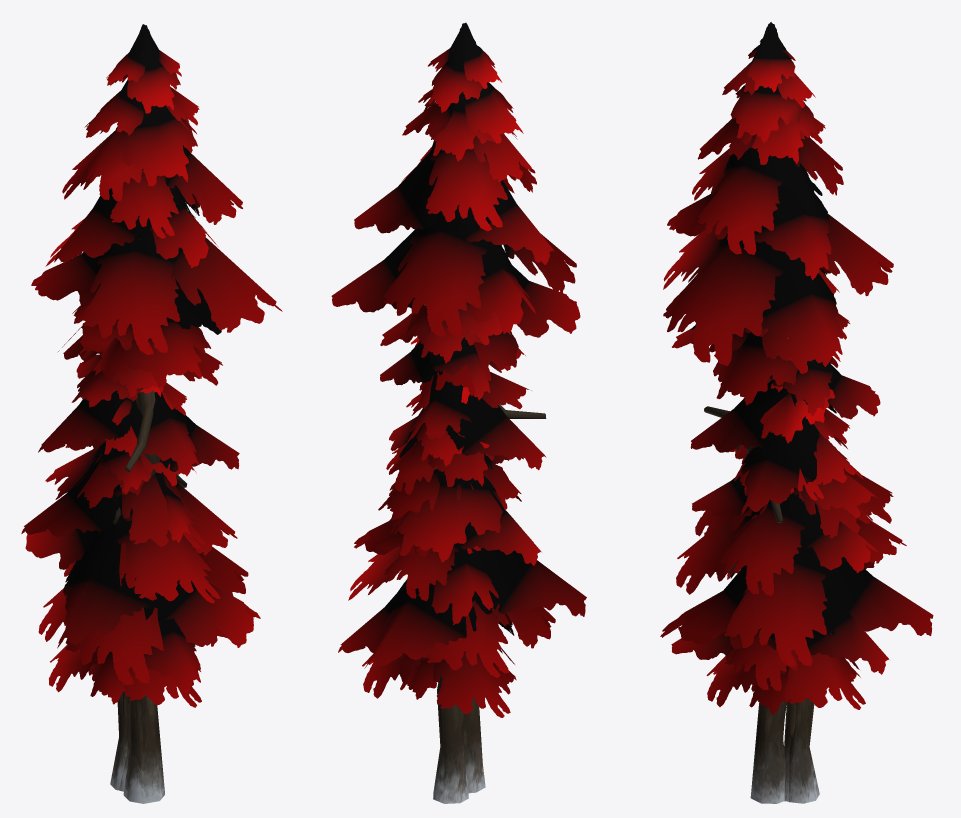
The model's file is Рослини.fbx.
3 renders of one model, left to right at view 1: azimuth 30°, elevation 25°; view 2: azimuth 150°, elevation 25°; view 3: azimuth 270°, elevation 25°, orthographic.
Visible parts, largest first — view 1: Tree_2_LOD0, Tree_3_LOD0, Tree_1_LOD0; view 2: Tree_2_LOD0, Tree_3_LOD0, Tree_1_LOD0; view 3: Tree_2_LOD0, Tree_3_LOD0, Tree_1_LOD0.
Part boxes in pixels (x1,y1,x2,y2): Tree_2_LOD0: [31, 24, 282, 803]; Tree_3_LOD0: [21, 365, 260, 791]; Tree_1_LOD0: [38, 298, 239, 790]; Tree_2_LOD0: [331, 22, 580, 793]; Tree_3_LOD0: [338, 375, 586, 793]; Tree_1_LOD0: [380, 302, 546, 803]; Tree_2_LOD0: [663, 22, 893, 803]; Tree_3_LOD0: [660, 377, 933, 801]; Tree_1_LOD0: [690, 269, 880, 803].
Size of what is drawn, in the model's own units: 78.18 by 247 by 92.06.
